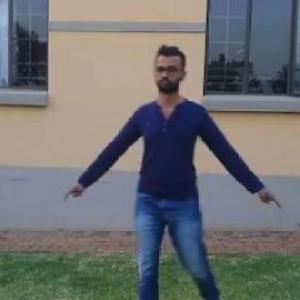land: (85, 54, 266, 299)
